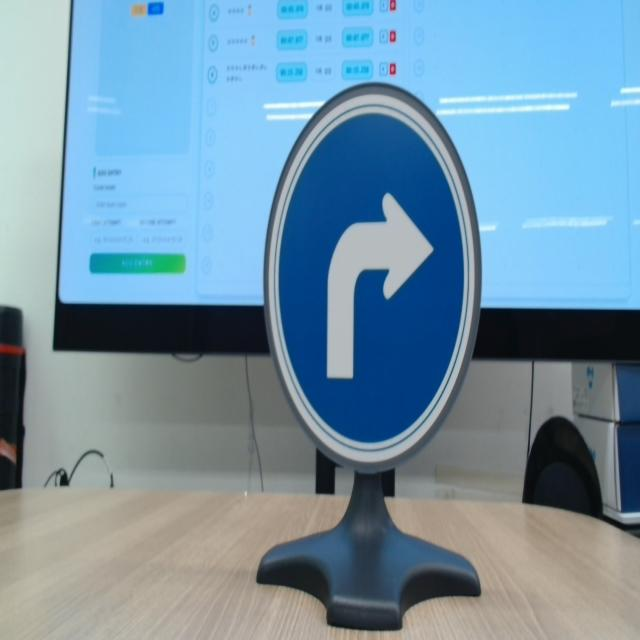right_dierection: (268, 60, 505, 495)
